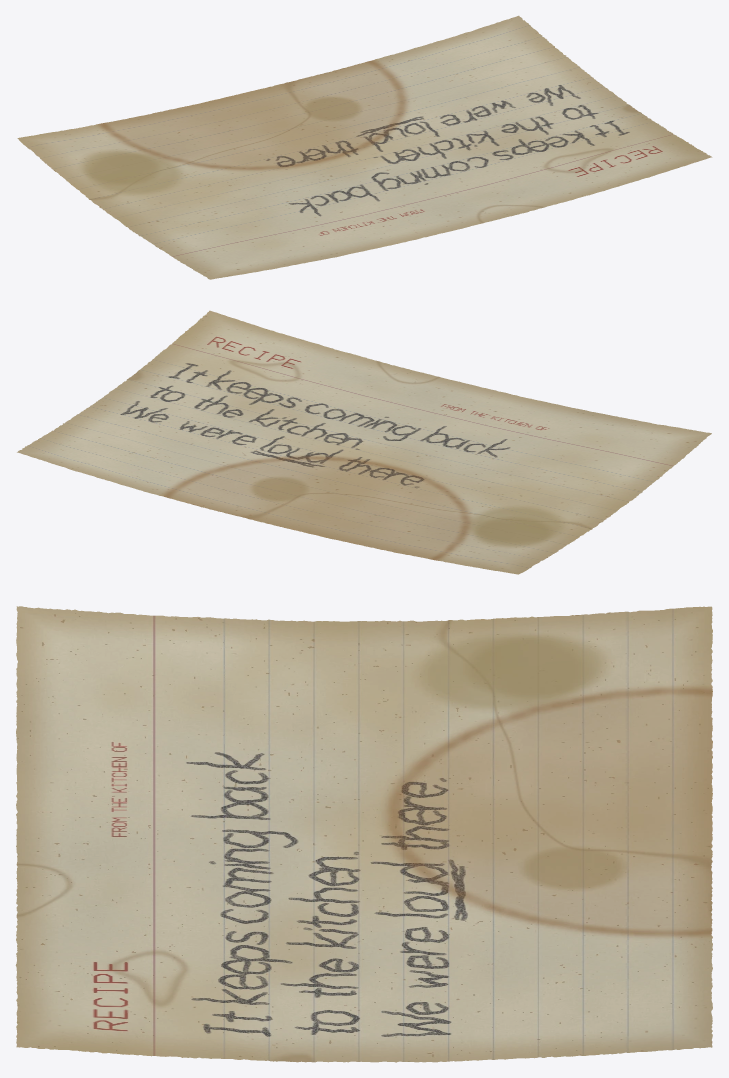
The model's file is note_kitchen.glb.
The picture shows the model from 3 angles, top to bottom: view 1: azimuth 30°, elevation 25°; view 2: azimuth 150°, elevation 25°; view 3: azimuth 270°, elevation 25°; orthographic projection. The views are drawn at different scales.
Parts seen in each view (by area): view 1: note_kitchen; view 2: note_kitchen; view 3: note_kitchen.
Part boxes in pixels (left/top/right/bottom): note_kitchen: left=17, top=15, right=712, bottom=279; note_kitchen: left=17, top=310, right=711, bottom=574; note_kitchen: left=15, top=606, right=712, bottom=1062.
Size of the model in its own units: 0.15 by 0.003 by 0.1.
1 material, 1 textured.
